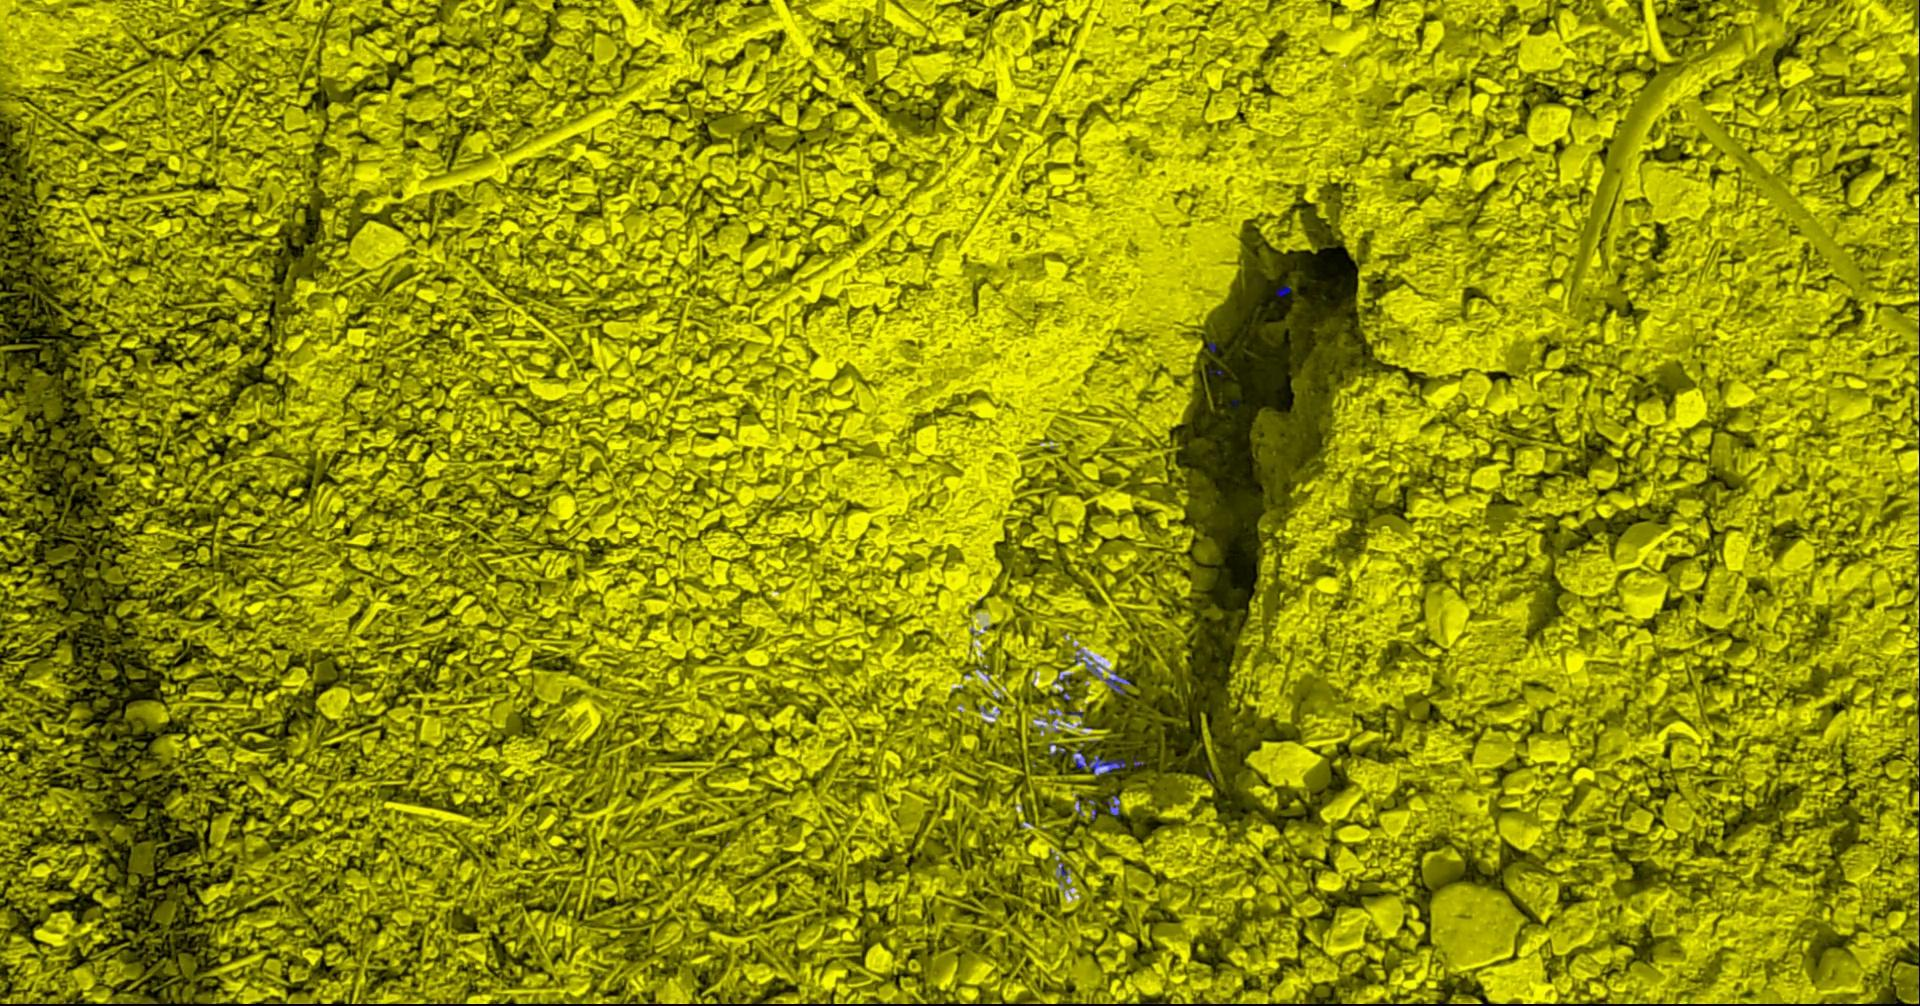ant: (1073, 748, 1128, 774), (1105, 671, 1131, 694), (1109, 795, 1123, 815), (1086, 661, 1103, 674), (1050, 742, 1067, 754), (1277, 285, 1291, 296)
